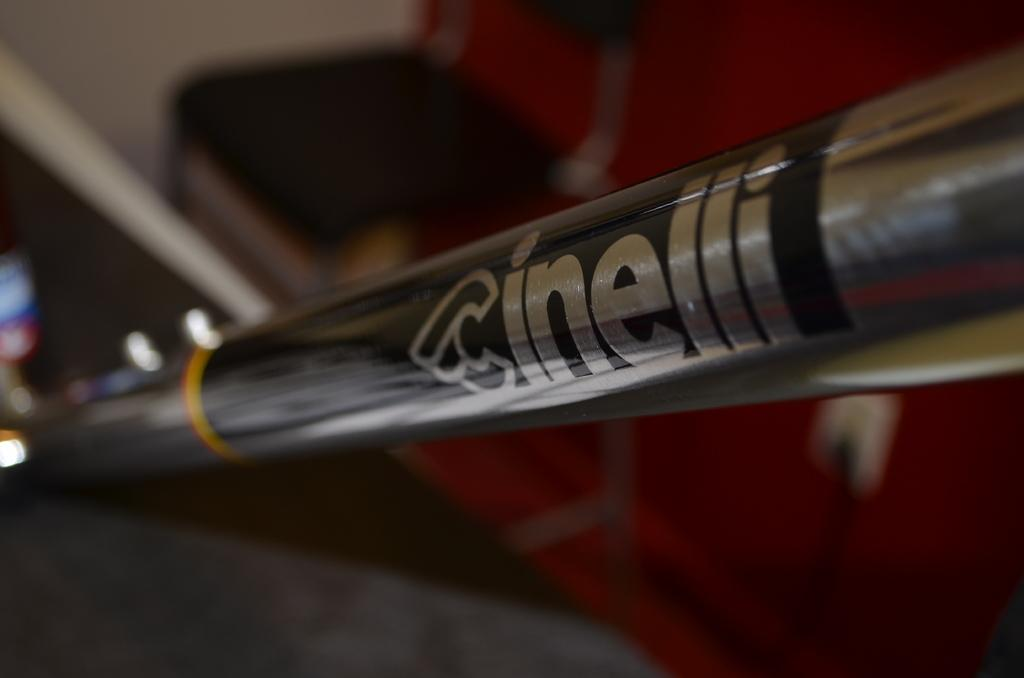pen: (8, 69, 1024, 482)
